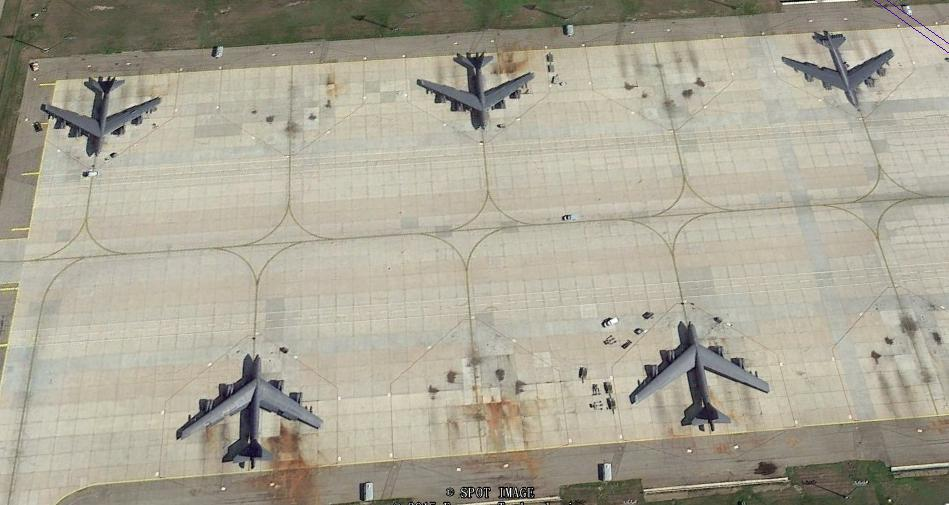B-52: (627, 320, 778, 432), (181, 353, 321, 471), (780, 26, 897, 111), (42, 76, 161, 158), (416, 54, 542, 131)
